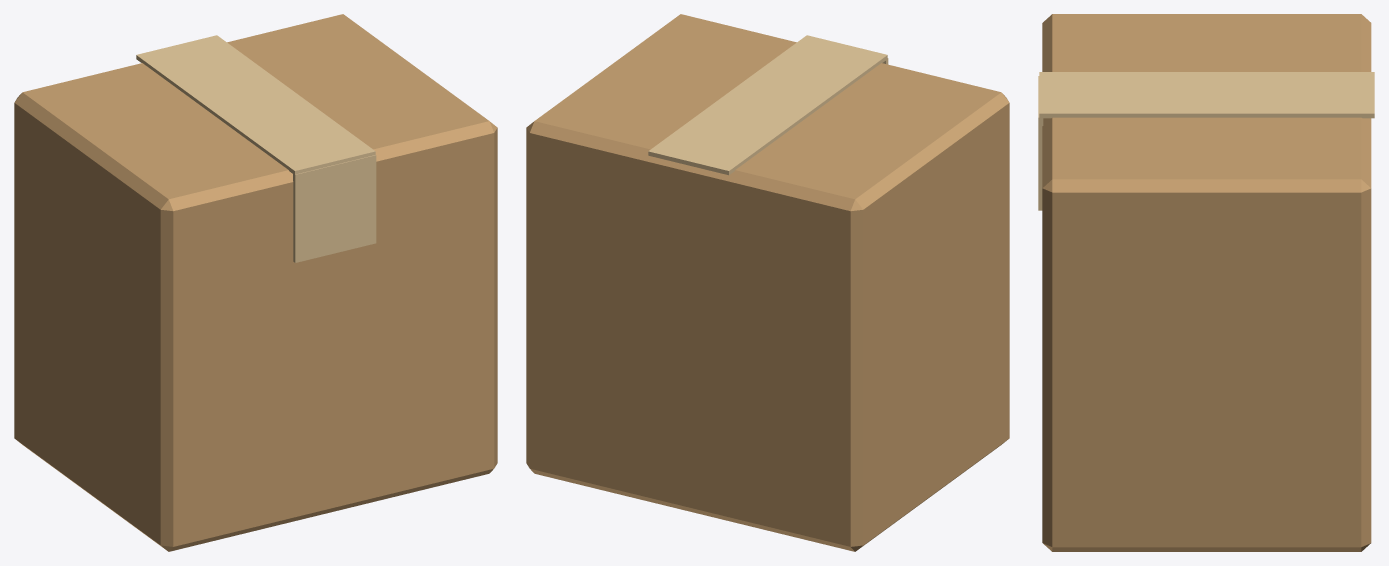
Rendered from box_small.glb.
3 views of the same model, side by side, from view 1: azimuth 30°, elevation 25°; view 2: azimuth 150°, elevation 25°; view 3: azimuth 270°, elevation 25° (orthographic). The views are drawn at different scales.
Parts seen in each view (by area): view 1: box_small; view 2: box_small; view 3: box_small.
Part boxes in pixels (x1,y1,x2,y2): box_small: (14,14,497,551); box_small: (526,14,1009,551); box_small: (1038,14,1374,551).
Bounding box in the file's own units: 0.25 × 0.2525 × 0.2045.
1 material, 1 textured.
